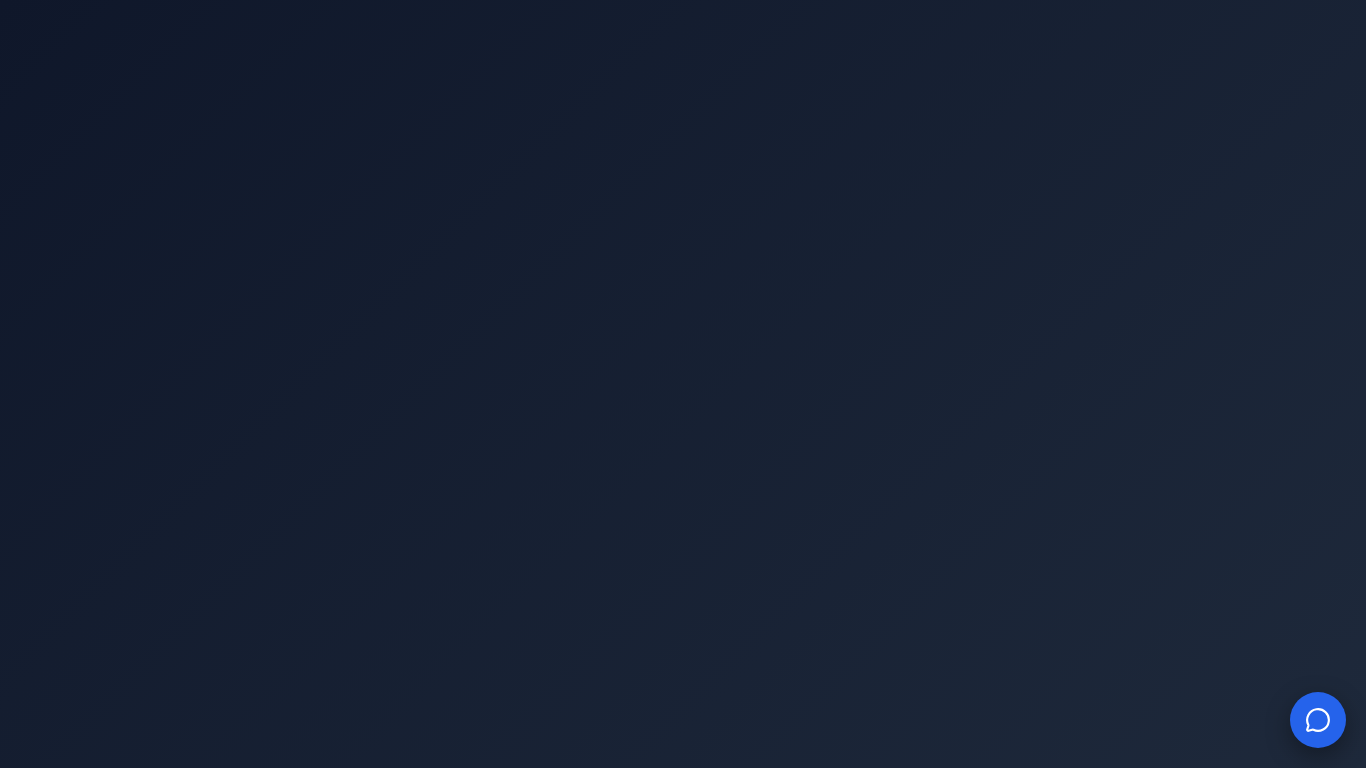
Test: ChatWidget › Escape cierra el chat y devuelve el foco a la burbuja
Click the button named "Abrir el asistente del clima".
click(1318, 720)  # box [1290,692,1346,748]
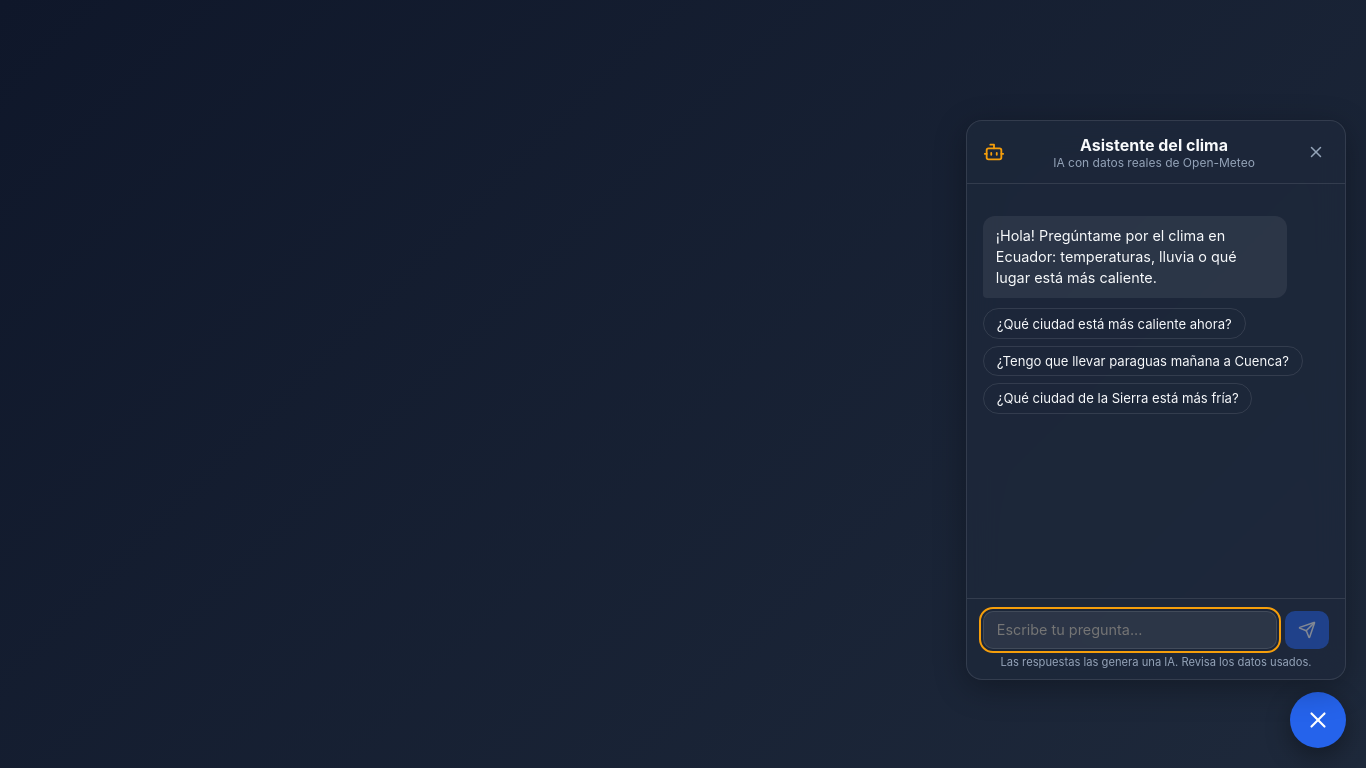
Press Escape in the field labelled "Escribe tu pregunta", box [983,611,1277,649]
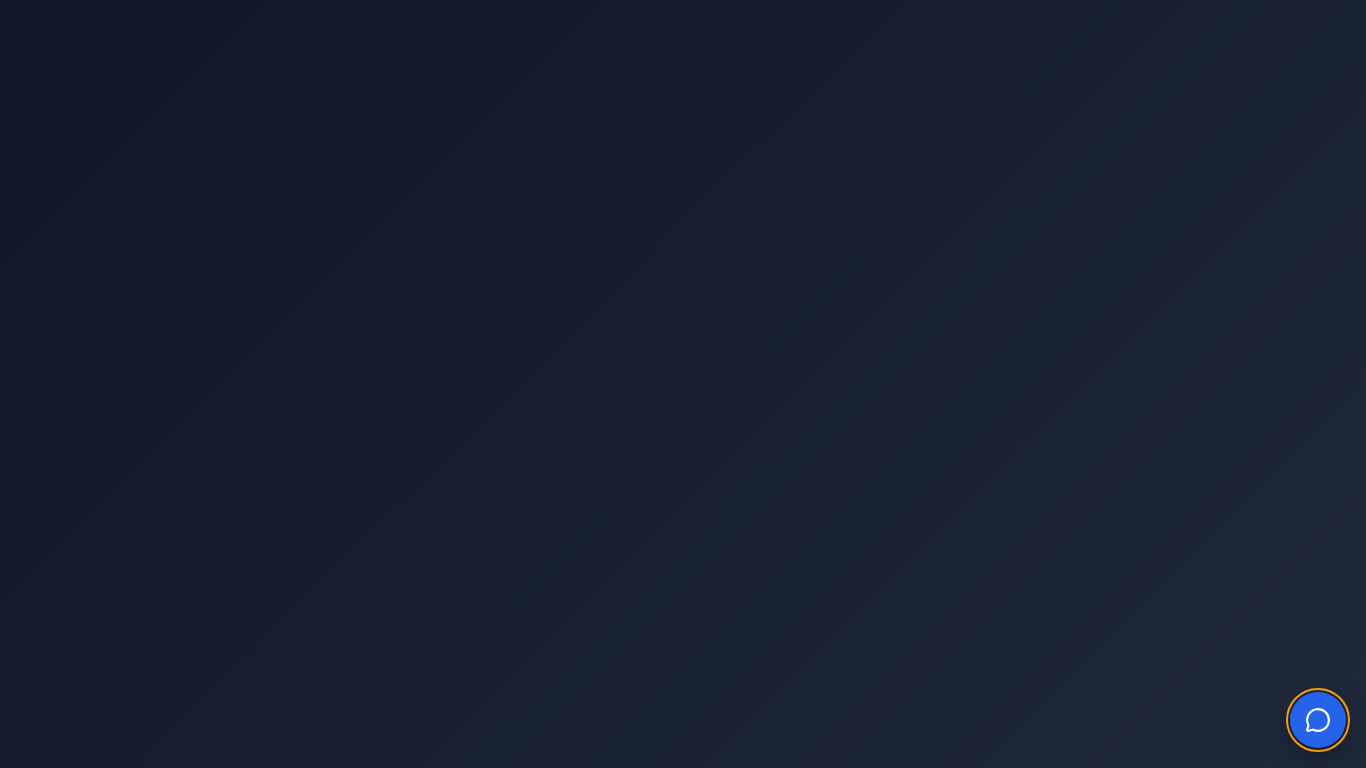
Expected: the dialog is gone
